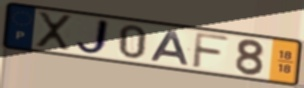0: (117, 24, 150, 60)
8: (234, 38, 268, 77)
A: (149, 30, 192, 67)
F: (190, 31, 231, 71)
J: (73, 17, 112, 57)
X: (35, 10, 74, 53)
